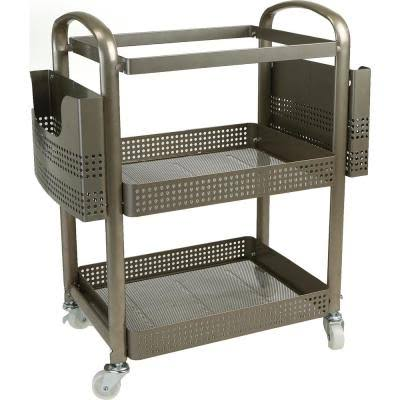Carts: (27, 1, 372, 400)
